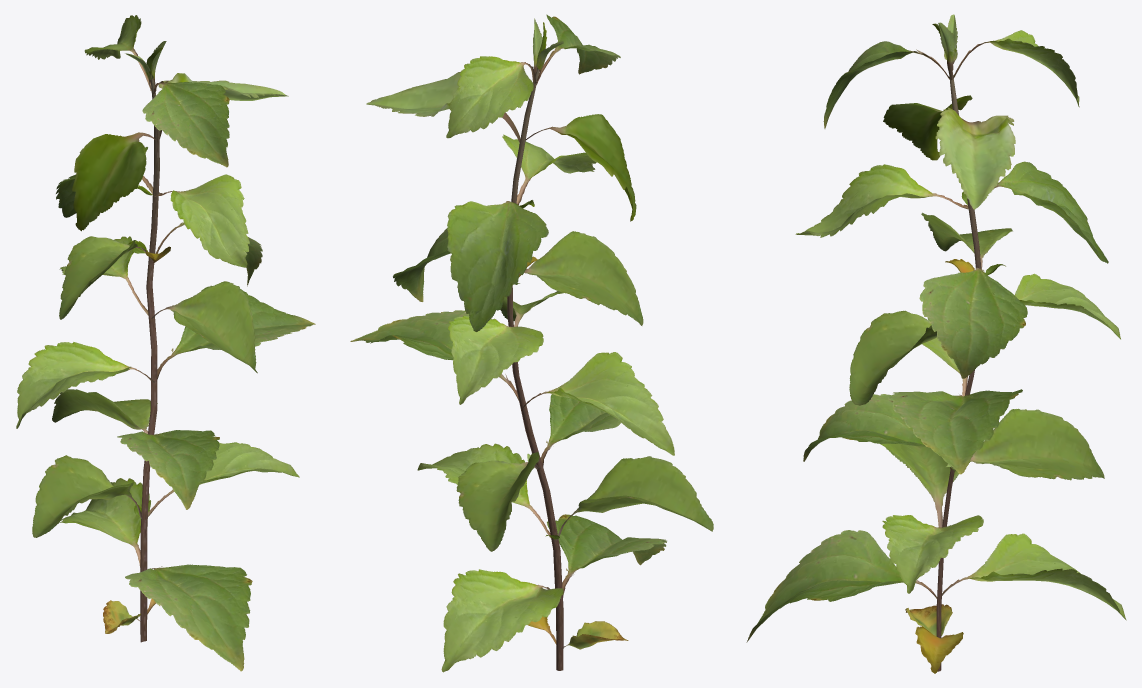
3 views of the same model, side by side, from view 1: azimuth 30°, elevation 25°; view 2: azimuth 150°, elevation 25°; view 3: azimuth 270°, elevation 25° (orthographic). The views are drawn at different scales.
Parts seen in each view (by area): view 1: shrub_01__e_lod0; view 2: shrub_01__e_lod0; view 3: shrub_01__e_lod0.
Boxes of the visible parts, x1=… form: shrub_01__e_lod0: x1=16, y1=15, x2=315, y2=671; shrub_01__e_lod0: x1=350, y1=14, x2=713, y2=672; shrub_01__e_lod0: x1=746, y1=14, x2=1126, y2=673.
Bounding box in the file's own units: 0.1819 × 0.3323 × 0.1751.
1 material, 1 textured.
